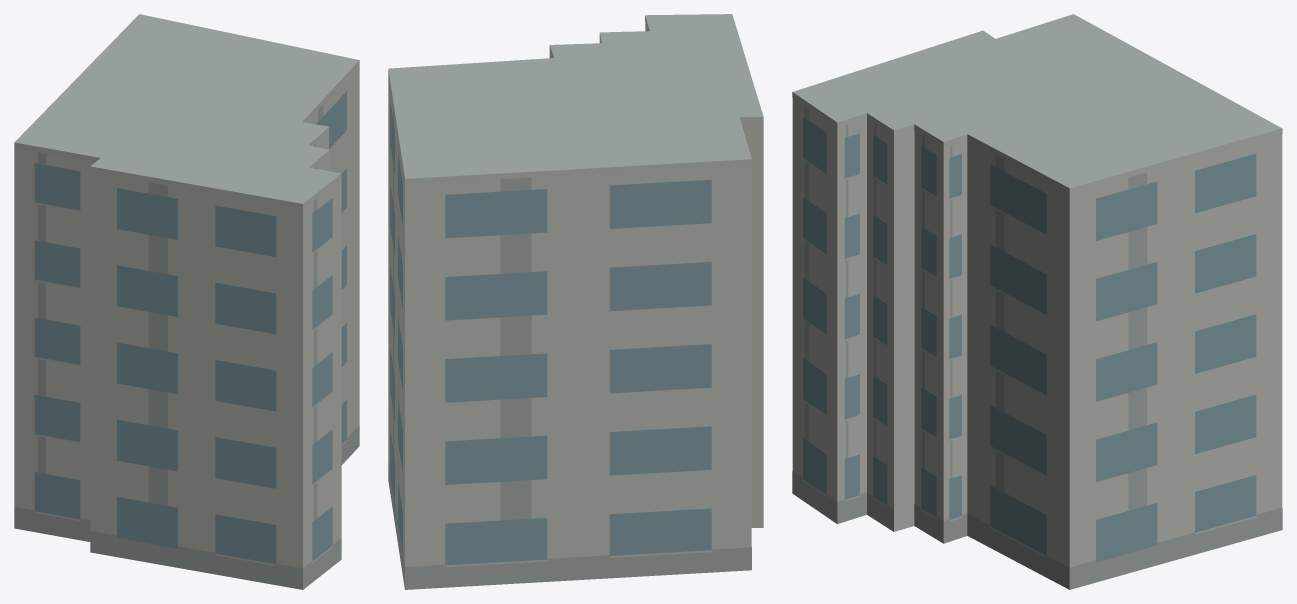
The model's file is survey-upis-32806398.glb.
3 renders of one model, left to right at view 1: azimuth 30°, elevation 25°; view 2: azimuth 150°, elevation 25°; view 3: azimuth 270°, elevation 25°, orthographic. The views are drawn at different scales.
Parts seen in each view (by area): view 1: survey-upis-32806398.tmp; view 2: survey-upis-32806398.tmp; view 3: survey-upis-32806398.tmp.
Boxes of the visible parts, x1,y1,x2,y2 form: survey-upis-32806398.tmp: (14, 14, 359, 589); survey-upis-32806398.tmp: (388, 14, 763, 589); survey-upis-32806398.tmp: (792, 14, 1282, 589).
Size of the model in its own units: 16.02 by 17.2 by 19.03.
